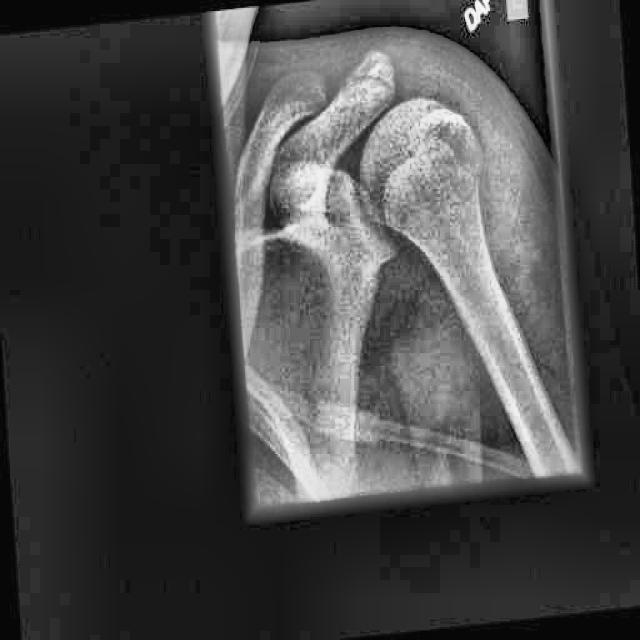shoulder fracture: (338, 38, 408, 106)
